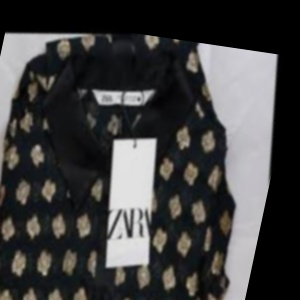zara: (72, 114, 244, 299)
